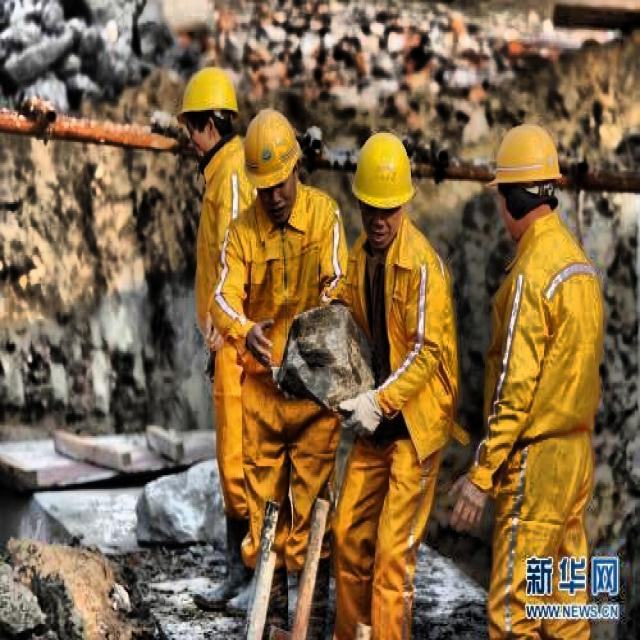helmet: (347, 126, 420, 252), (489, 117, 567, 227), (172, 58, 246, 166), (242, 103, 306, 225)
